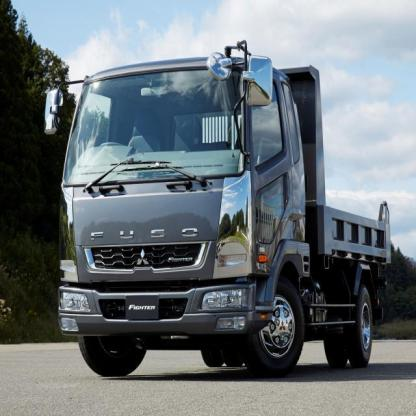truck: (38, 42, 394, 379)
